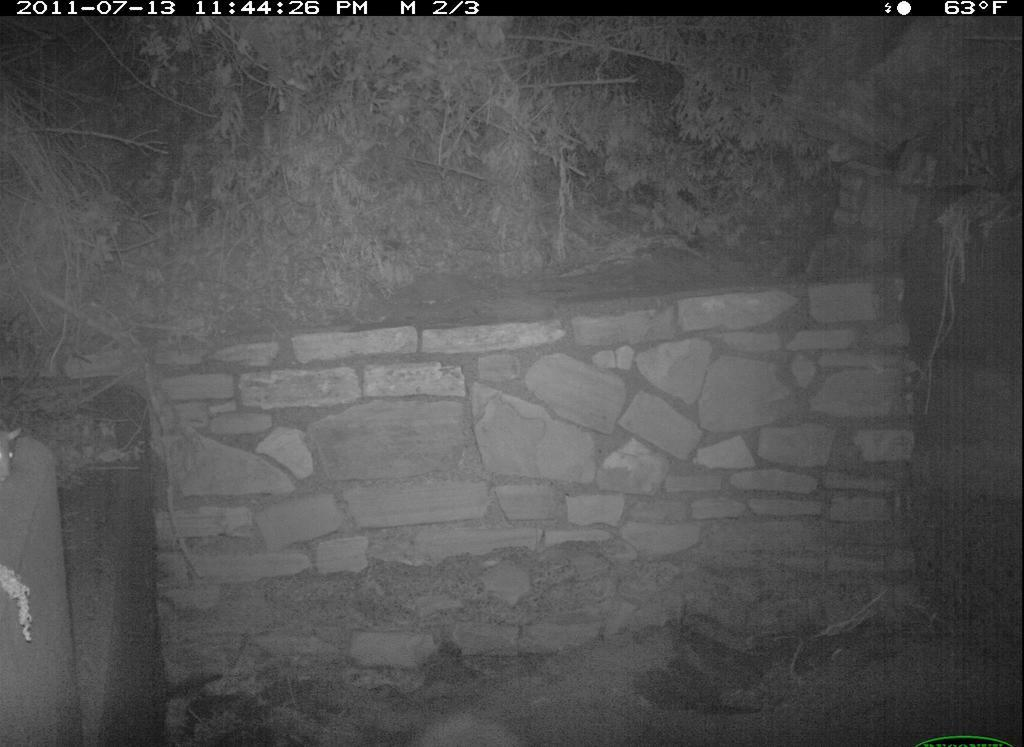rodent: (1, 409, 35, 508)
